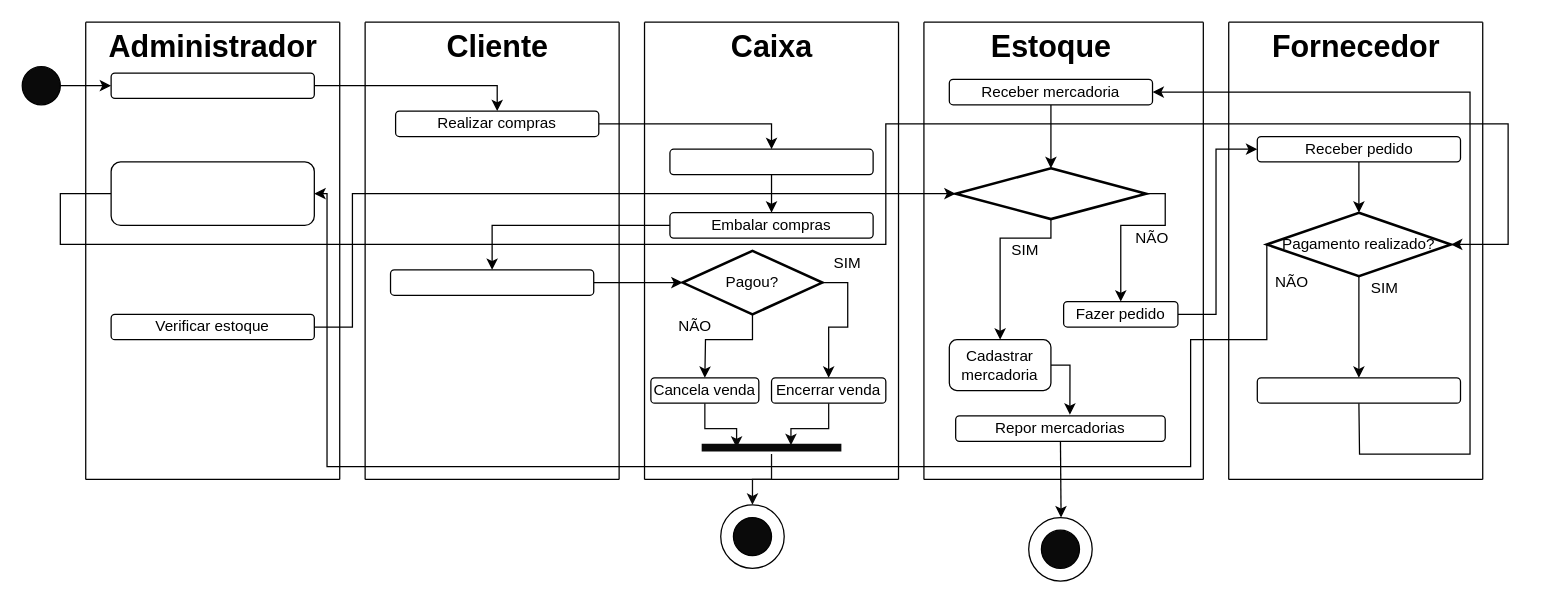
The diagram is 1541 pixels wide and 603 high, and some of its shapes have lost their labels. Each missing label, with the box of its shape:
Cadastrar cliente: (110, 72, 314, 98)
Chegou mercadoria?: (954, 166, 1147, 220)
Enviar mercadoria: (1256, 377, 1460, 403)
Pagar conta: (389, 269, 594, 295)
Realizar pagamento de pedido: (110, 161, 314, 225)
Validar compras: (669, 148, 873, 175)
